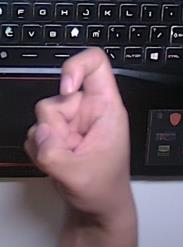anticlockwise: (25, 47, 130, 215)
